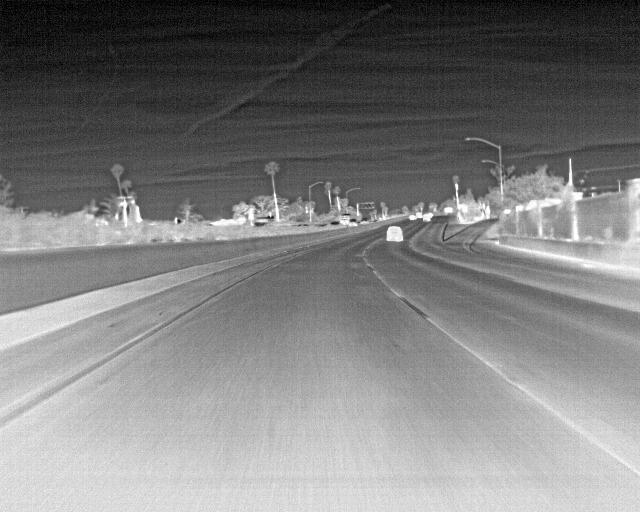car: (386, 227, 401, 241)
